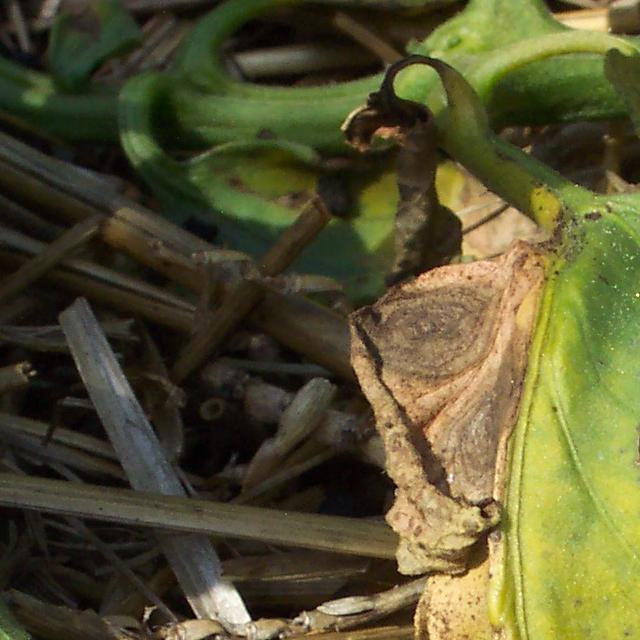Tomato Early blight leaf: (318, 119, 640, 640)
